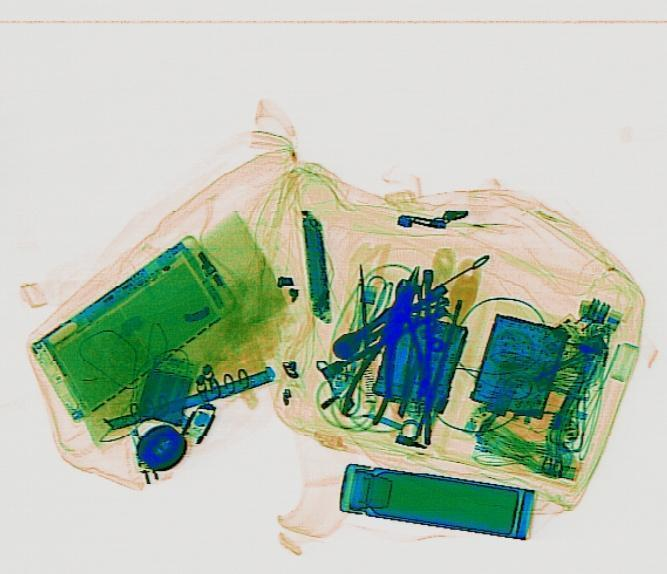Pliers: (335, 260, 438, 424), (378, 276, 427, 396)
